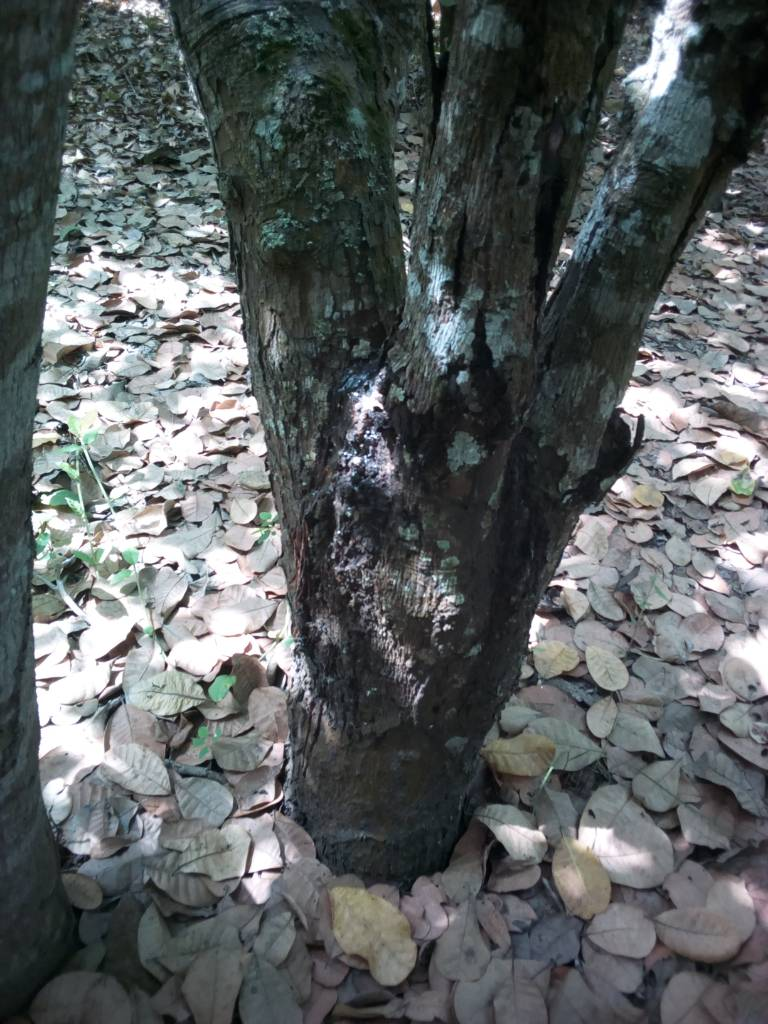Termites: (305, 405, 490, 841)
